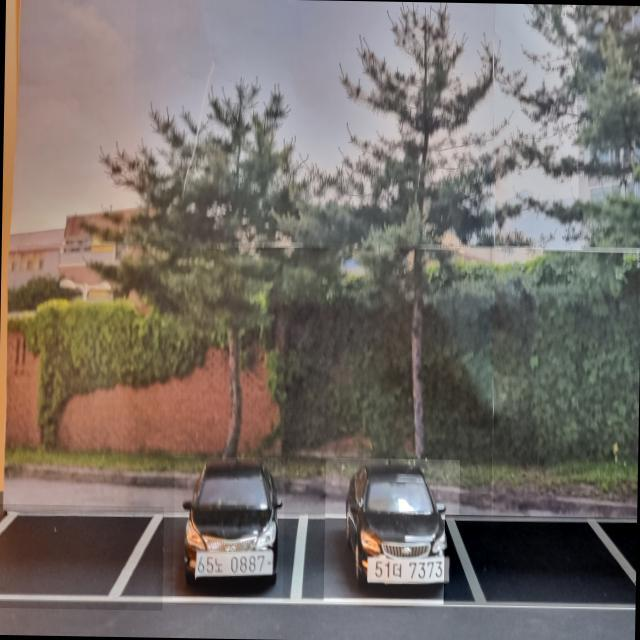empty: (443, 514, 637, 608), (0, 503, 164, 610)
occupied: (323, 458, 460, 604), (172, 456, 285, 602)
